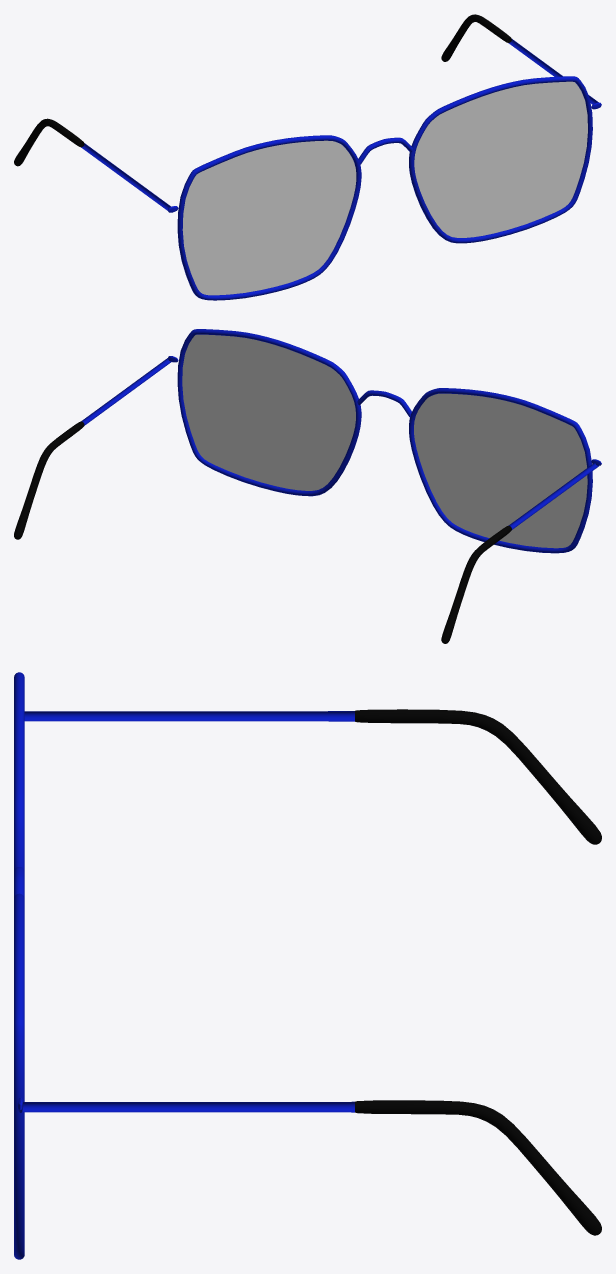
The model's file is geometric_glasses.glb.
3 renders of one model, top to bottom at view 1: azimuth 30°, elevation 25°; view 2: azimuth 150°, elevation 25°; view 3: azimuth 270°, elevation 25°, orthographic. The views are drawn at different scales.
Visible parts, largest first — view 1: Glases_glass_0_6, Glases_Material.002_0_4, Glases_Material.001_0_5; view 2: Glases_glass_0_6, Glases_Material.002_0_4, Glases_Material.001_0_5; view 3: Glases_Material.002_0_4, Glases_Material.001_0_5.
Boxes of the visible parts, <box> form: Glases_glass_0_6: <box>182,81,587,295</box>; Glases_Material.002_0_4: <box>81,39,601,300</box>; Glases_Material.001_0_5: <box>14,14,511,166</box>; Glases_glass_0_6: <box>182,334,587,548</box>; Glases_Material.002_0_4: <box>81,329,601,553</box>; Glases_Material.001_0_5: <box>14,421,511,643</box>; Glases_Material.002_0_4: <box>14,672,354,1259</box>; Glases_Material.001_0_5: <box>355,709,601,1235</box>.
Bounding box in the file's own units: 2.85 × 0.948 × 1.78.
